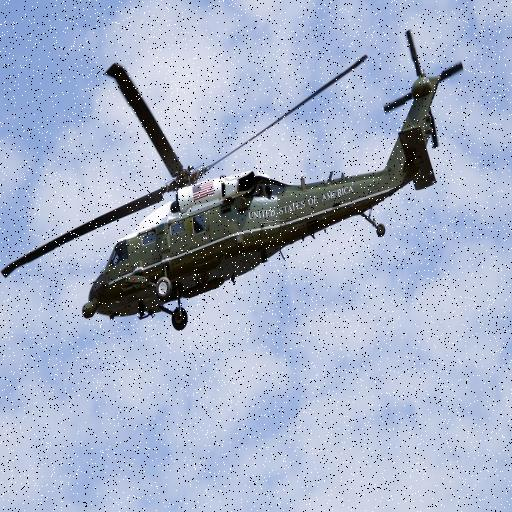helicopter: (5, 30, 464, 343)
